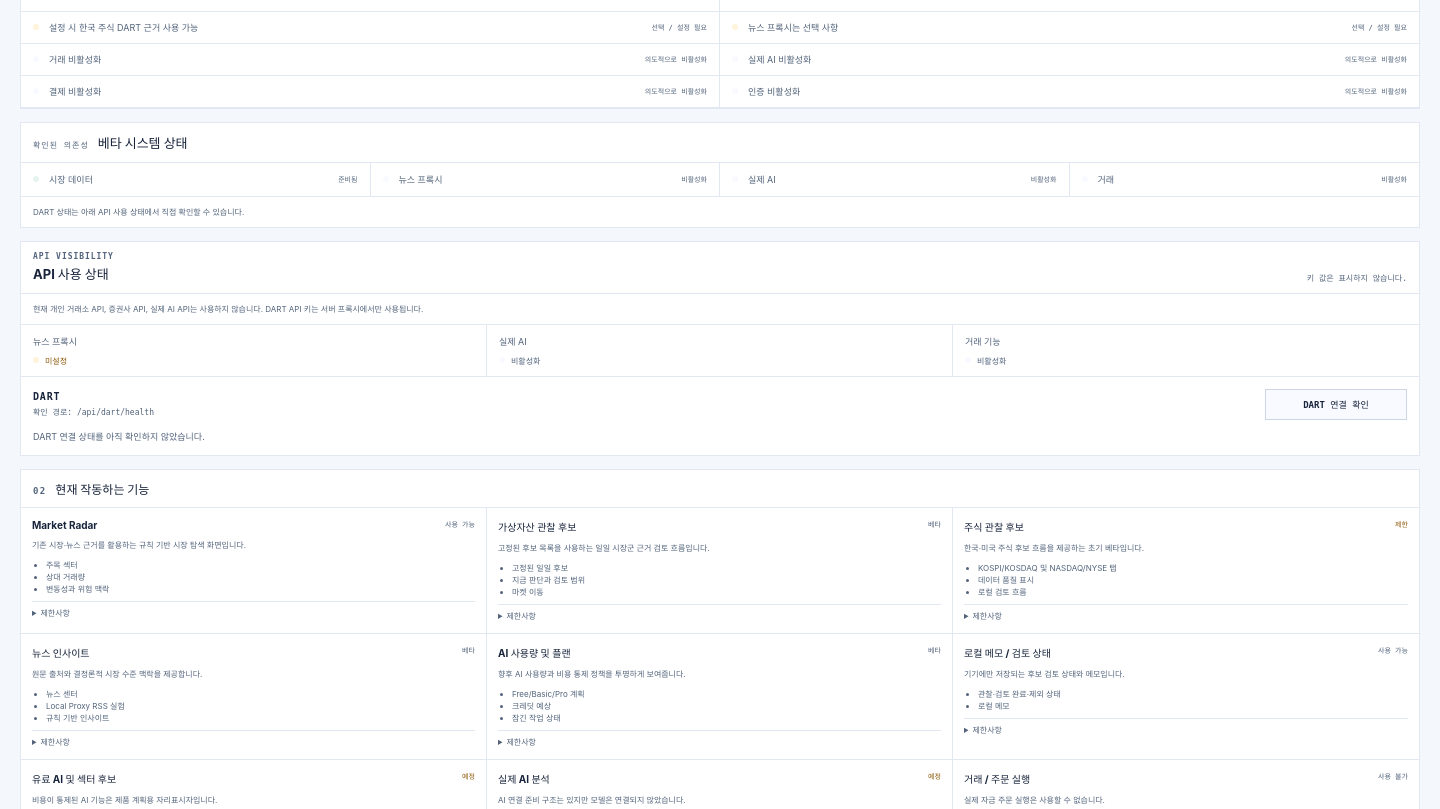
Test: DemoPage manual DART health integration › shows a connection failure only after the user starts a failed check
(page scrolled)
Expected: the text "DART 프록시:" is not shown
Step 1. Click the button "DART 연결 확인" → (1336, 404), box x1=1265 y1=389 x2=1407 y2=420
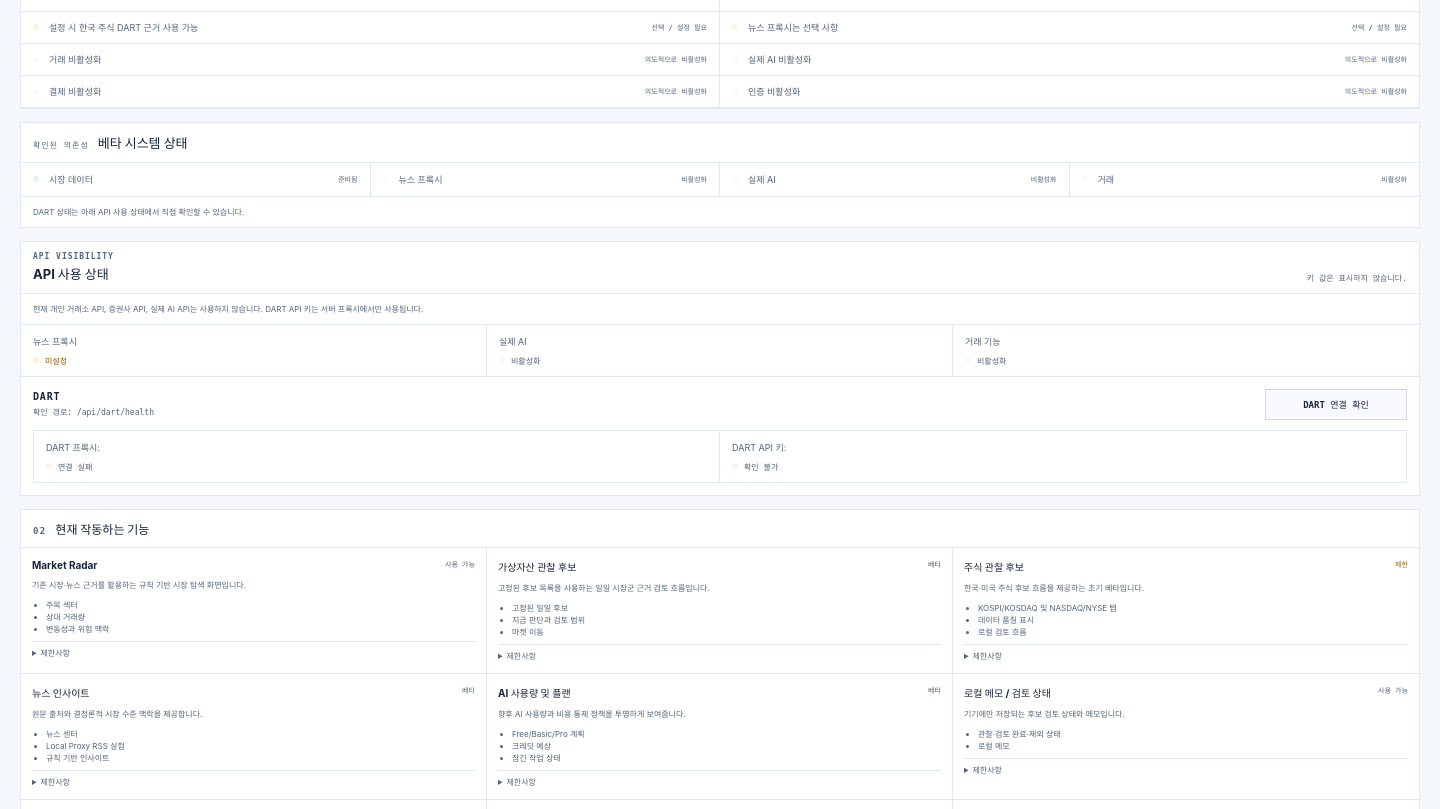
Expected: the list item "DART 프록시:" reads "DART 프록시: 연결 실패", x1=34 y1=431 x2=720 y2=482
Expected: the list item "DART API 키:" reads "DART API 키: 확인 불가", x1=732 y1=442 x2=786 y2=472
